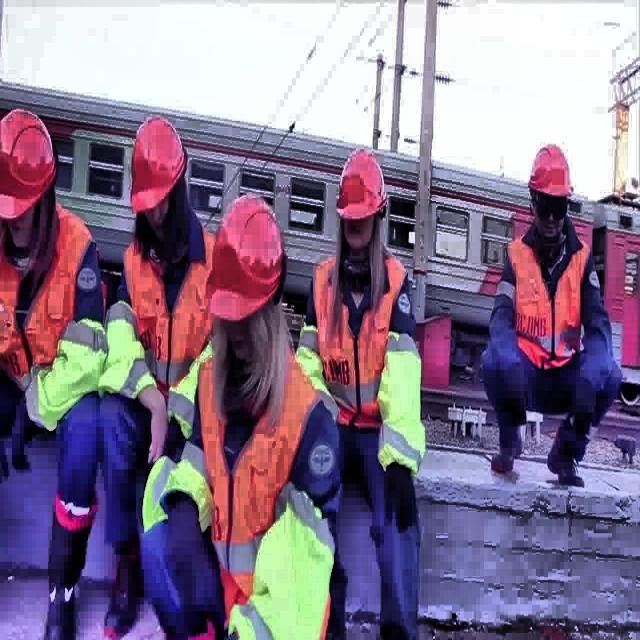safety_helmet: (208, 195, 284, 318), (1, 104, 58, 220), (130, 118, 188, 214), (336, 152, 387, 218), (528, 147, 572, 198)
safety_jacket: (198, 344, 326, 614), (0, 205, 108, 412), (229, 474, 338, 640), (310, 250, 408, 434), (120, 231, 212, 387), (508, 232, 592, 367), (32, 319, 105, 433), (373, 328, 424, 477), (139, 434, 215, 532), (164, 334, 214, 442), (104, 301, 156, 403)
